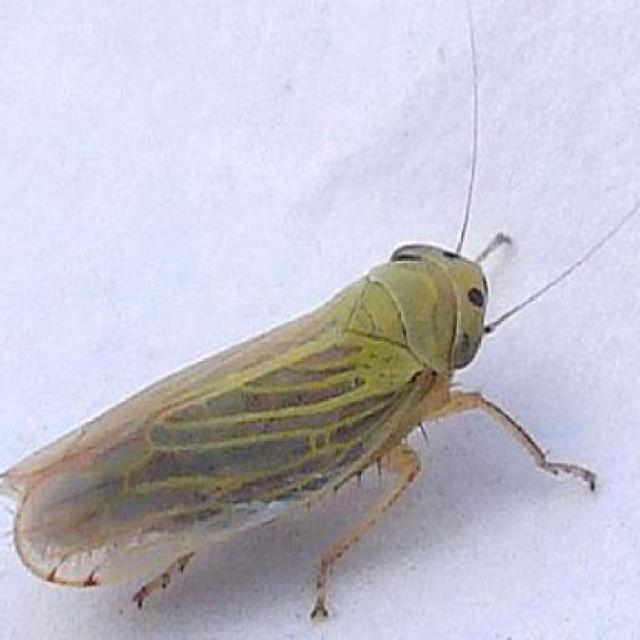green-leafhopper: (4, 241, 604, 615)
